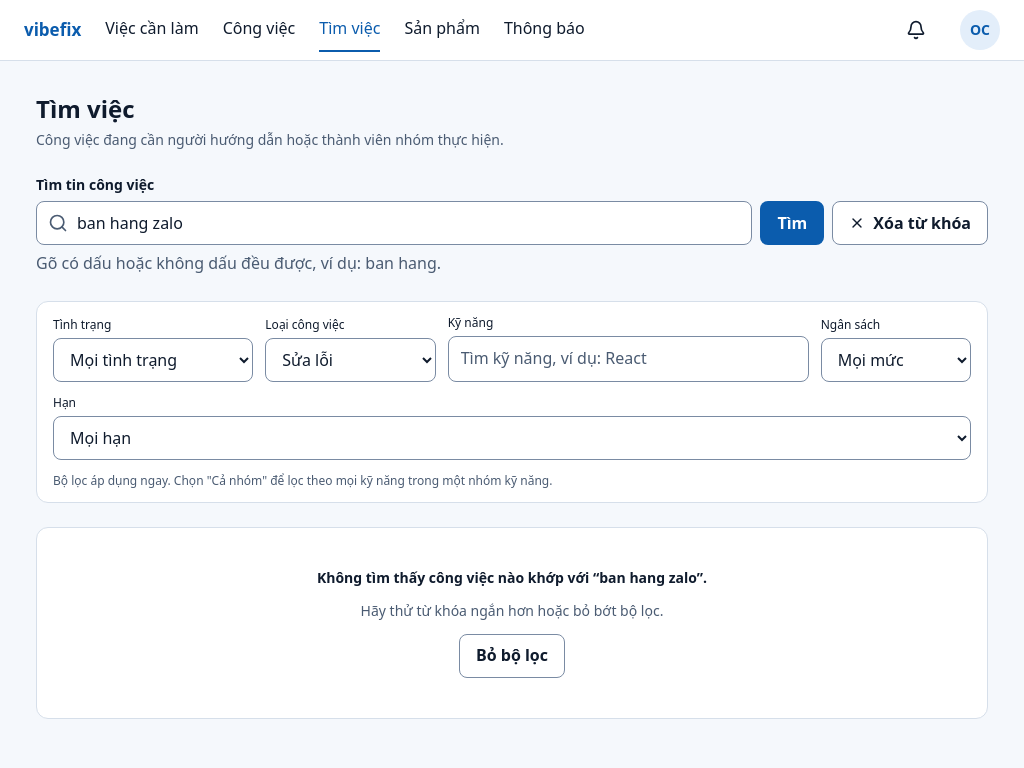
Test case: MEN-2, searching by keyword (FR-12, UX-DR47) › says nothing matched the keyword and clears only the filters
This screenshot has width=1024, height=768.
Expected: the text "Không tìm thấy công việc nào khớp với “ban hang zalo”." is shown, top-left (317, 568), bottom-right (707, 588)
Expected: the text "Hãy thử từ khóa ngắn hơn hoặc bỏ bớt bộ lọc." is shown, top-left (361, 600), bottom-right (663, 622)
Click the button "Bỏ bộ lọc": coordinates (512, 656) top-left (459, 634), bottom-right (565, 678)
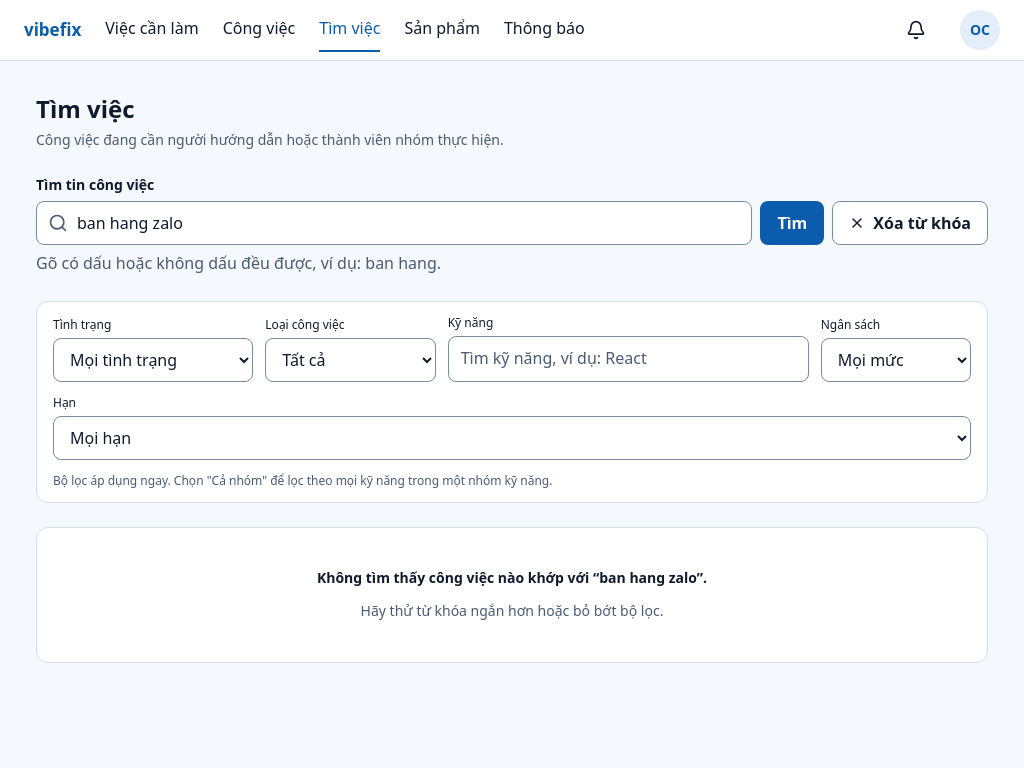
Result: the button "Bỏ bộ lọc" is gone
